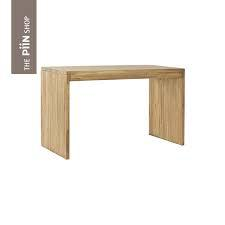desk: (36, 49, 199, 174)
